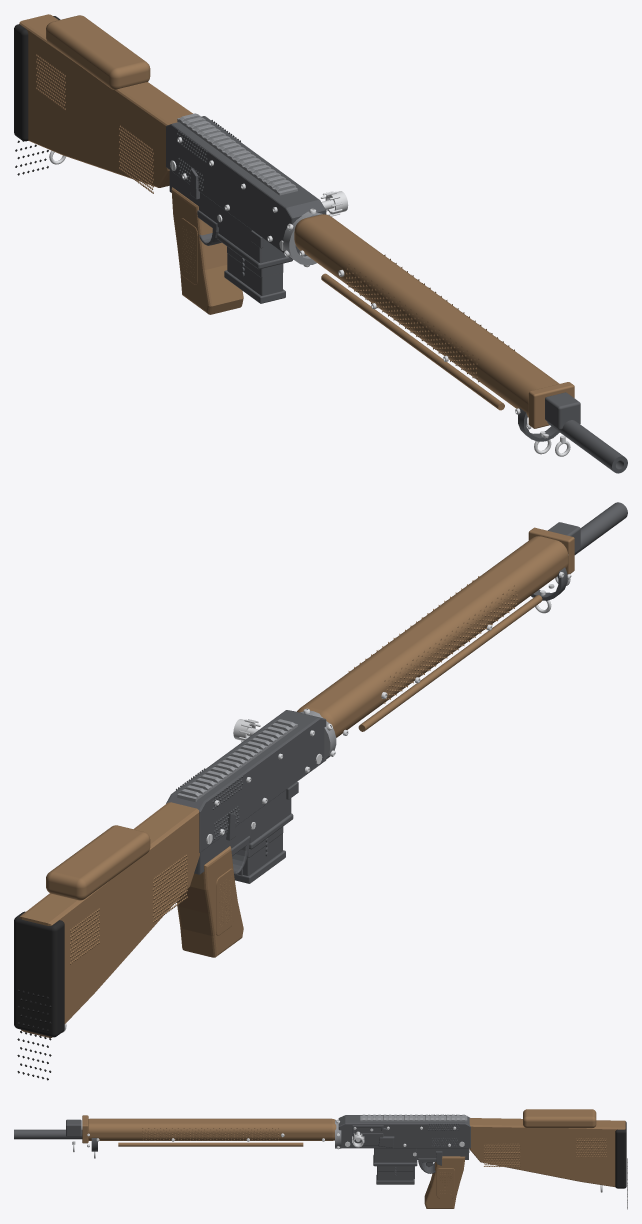
Rendered from kar98k.glb.
The picture shows the model from 3 angles, top to bottom: view 1: azimuth 30°, elevation 25°; view 2: azimuth 150°, elevation 25°; view 3: azimuth 270°, elevation 25°; orthographic projection. The views are drawn at different scales.
Parts seen in each view (by area): view 1: bolt-sniper-classic, magazine/gunmetal; view 2: bolt-sniper-classic, magazine/gunmetal; view 3: bolt-sniper-classic, magazine/gunmetal.
Part boxes in pixels (x1,y1,x2,y2): bolt-sniper-classic: (14, 14, 627, 473); magazine/gunmetal: (224, 246, 285, 303); bolt-sniper-classic: (14, 502, 627, 1080); magazine/gunmetal: (234, 826, 285, 883); bolt-sniper-classic: (14, 1109, 627, 1209); magazine/gunmetal: (376, 1166, 414, 1184).
Bounding box in the file's own units: 0.089 × 0.1953 × 1.17.
